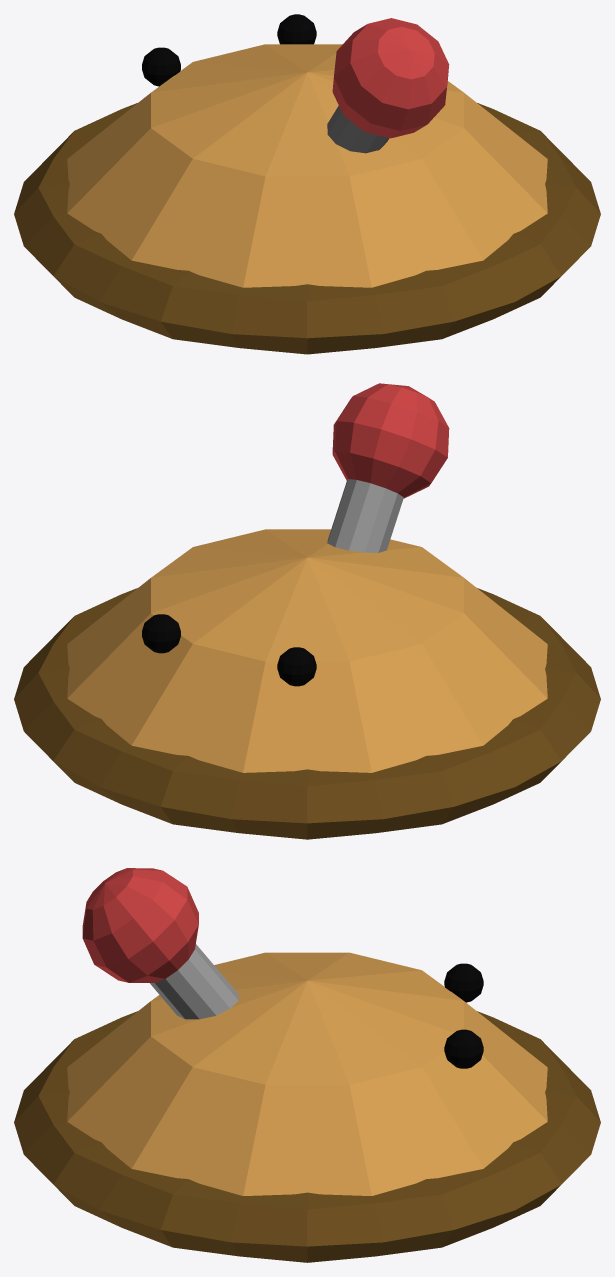
Rendered from potatomine.obj.
The picture shows the model from 3 angles, top to bottom: view 1: azimuth 30°, elevation 25°; view 2: azimuth 150°, elevation 25°; view 3: azimuth 270°, elevation 25°; orthographic projection.
Visible parts, largest first — view 1: sphere, cylinder; view 2: sphere, cylinder; view 3: sphere, cylinder.
Part boxes in pixels (left/top/right/bottom): sphere: left=67, top=14, right=547, bottom=287; cylinder: left=14, top=103, right=600, bottom=354; sphere: left=67, top=383, right=547, bottom=772; cylinder: left=14, top=479, right=600, bottom=839; sphere: left=67, top=868, right=547, bottom=1195; cylinder: left=14, top=944, right=600, bottom=1262.
Size of the model in its own units: 0.9375 by 0.5025 by 0.9375.
1 material, 1 textured.
